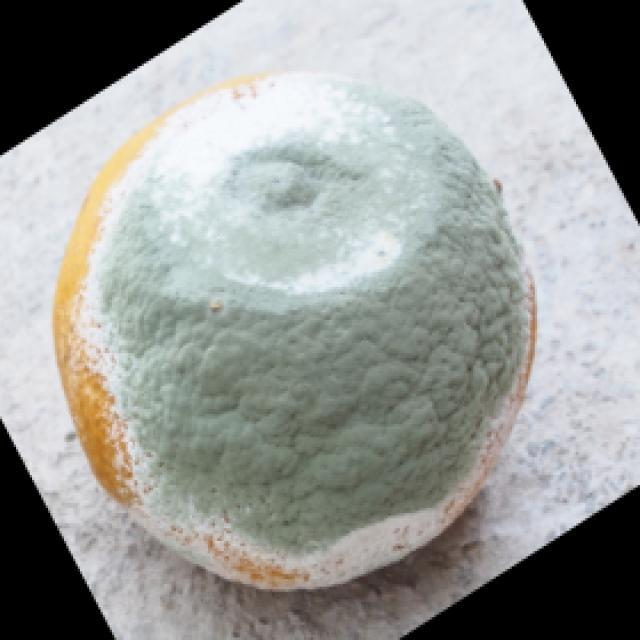sangat-busuk: (53, 73, 534, 590)
